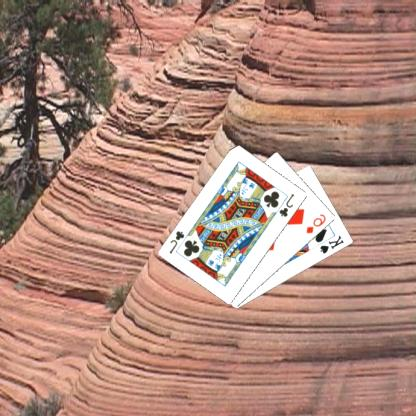6D: (306, 211, 329, 235)
JC: (278, 191, 298, 218), (168, 228, 188, 255)
KS: (319, 233, 347, 255)
